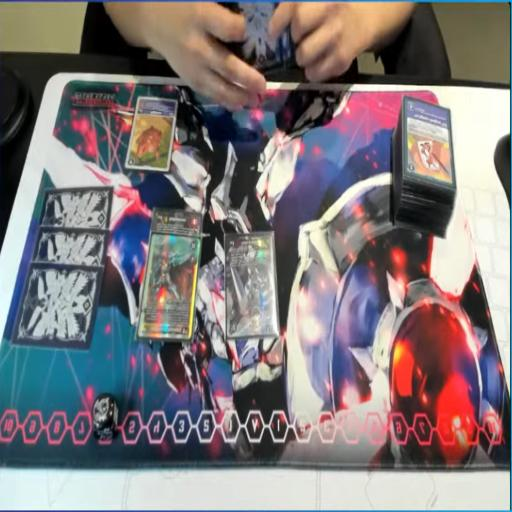card: (136, 238, 201, 346), (224, 228, 278, 340), (398, 96, 462, 180), (124, 97, 178, 174), (152, 207, 206, 249)
